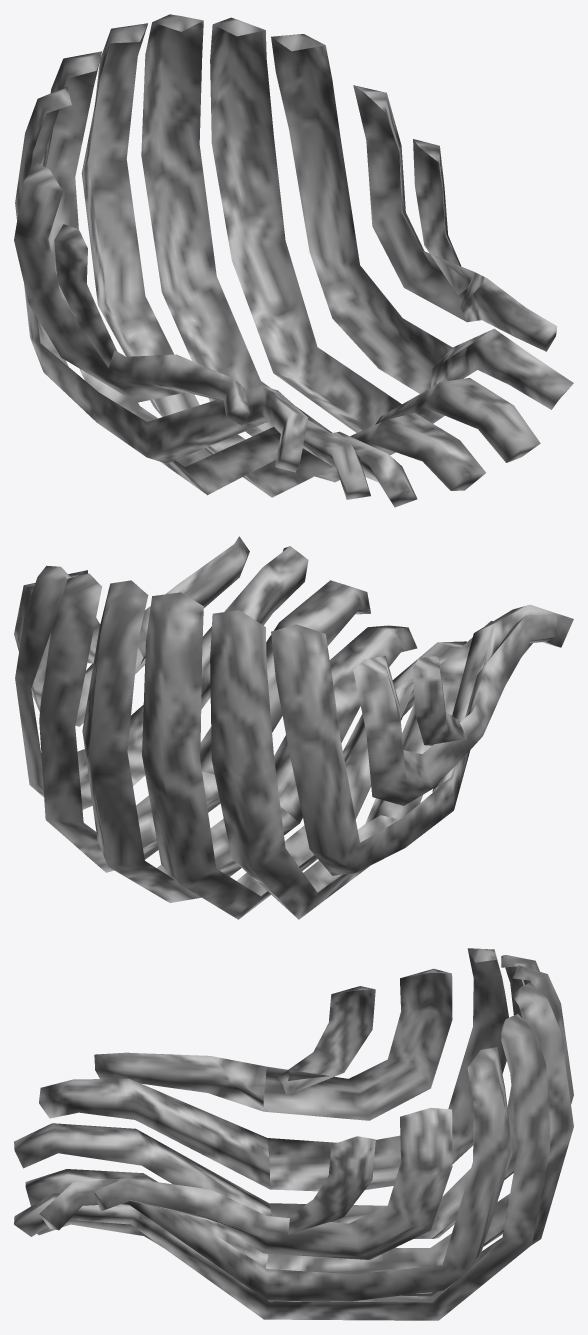
The model's file is Wig_Bob_Hair_Cornrows.fbx.
The picture shows the model from 3 angles, top to bottom: view 1: azimuth 30°, elevation 25°; view 2: azimuth 150°, elevation 25°; view 3: azimuth 270°, elevation 25°; orthographic projection. The views are drawn at different scales.
Parts seen in each view (by area): view 1: BoxOfJars003; view 2: BoxOfJars003; view 3: BoxOfJars003.
Boxes of the visible parts, x1,y1,x2,y2 form: BoxOfJars003: (14, 14, 573, 507); BoxOfJars003: (14, 536, 573, 919); BoxOfJars003: (14, 948, 573, 1320).
Size of the model in its own units: 11.66 by 10.36 by 16.6.
